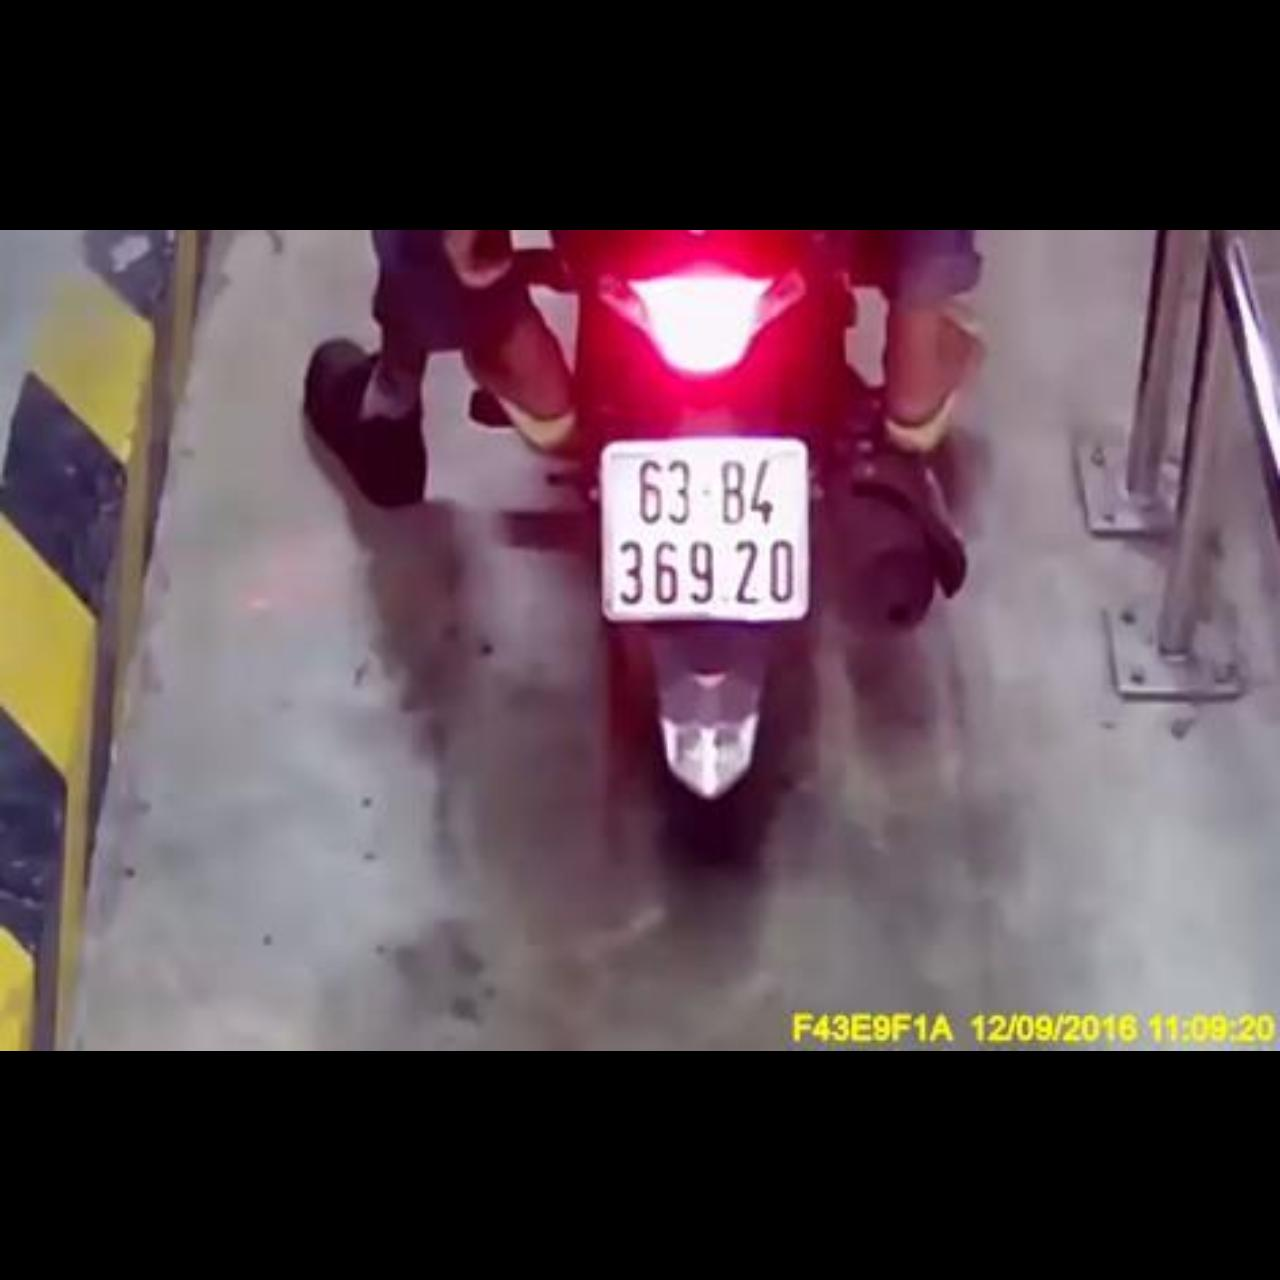bienso: (591, 435, 810, 635)
